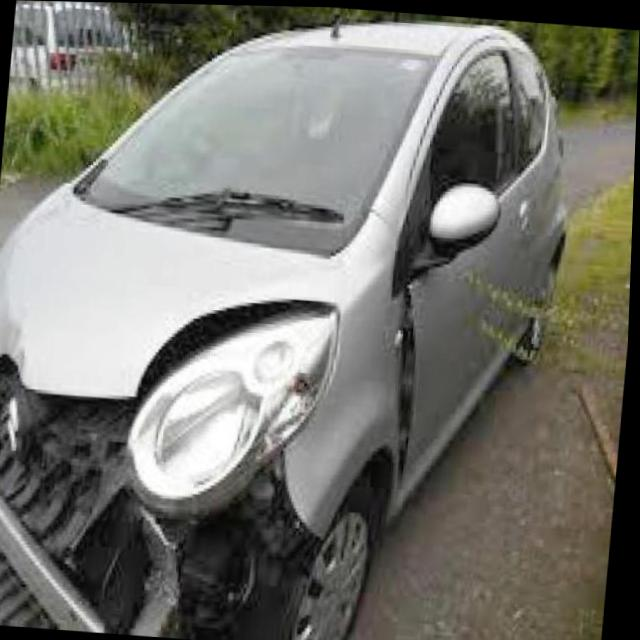Car-Damage: (0, 252, 435, 640)
